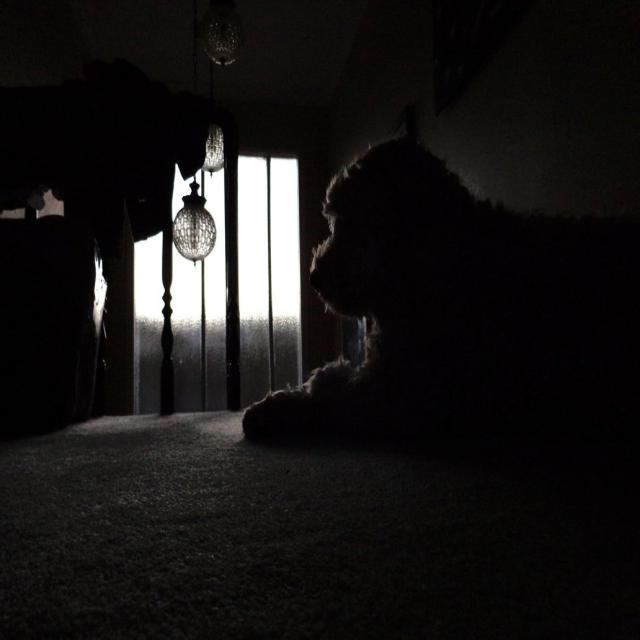dog: (245, 124, 638, 487)
